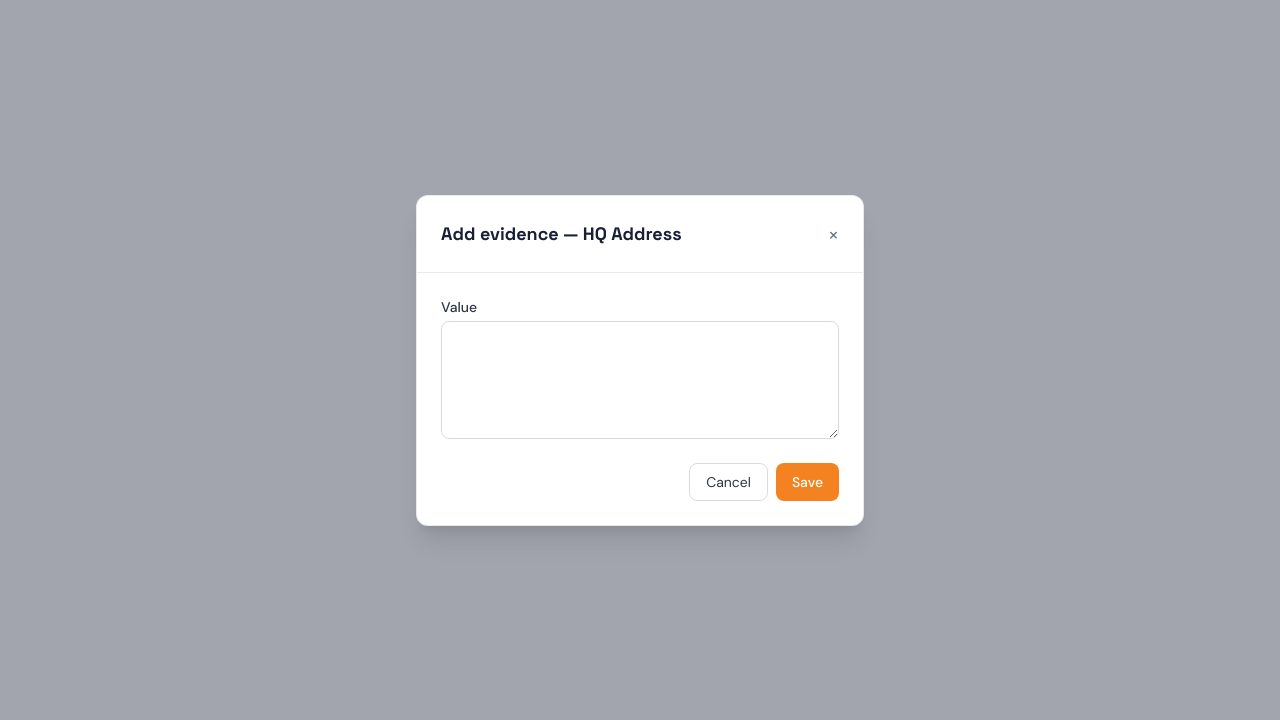
Test: rejects a non-object structured value without fetching
Step 1. Type "[1,2,3]" into the text box → (640, 380), box x1=441 y1=320 x2=839 y2=438
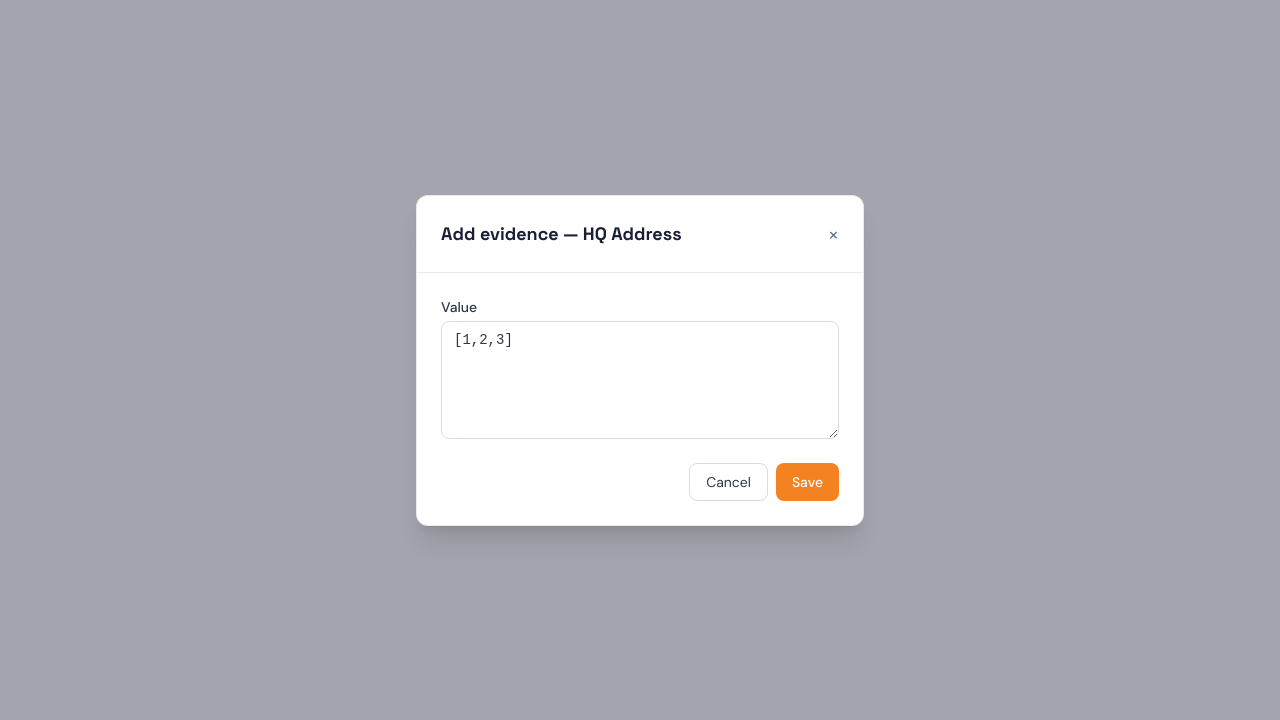
Step 2. Click the button "Save" → click(807, 482), box x1=776 y1=462 x2=839 y2=500
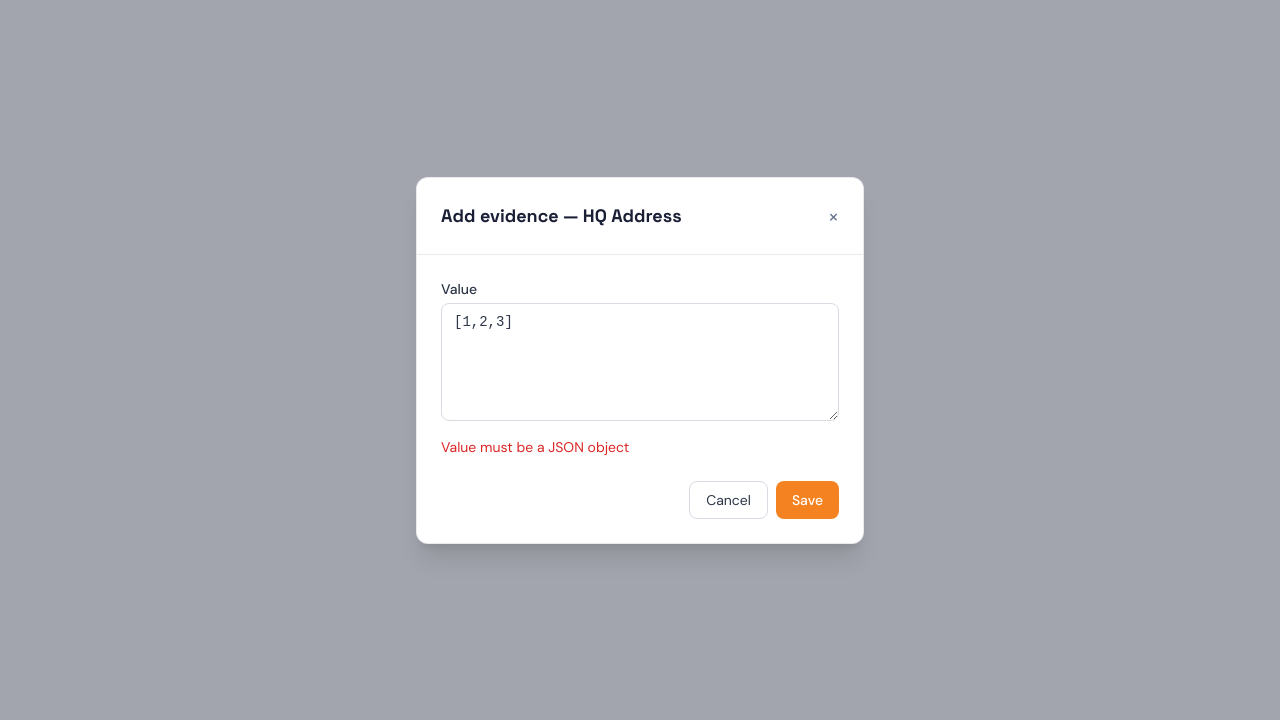
Result: the text "Value must be a JSON object" is shown at x1=441 y1=438 x2=629 y2=456
